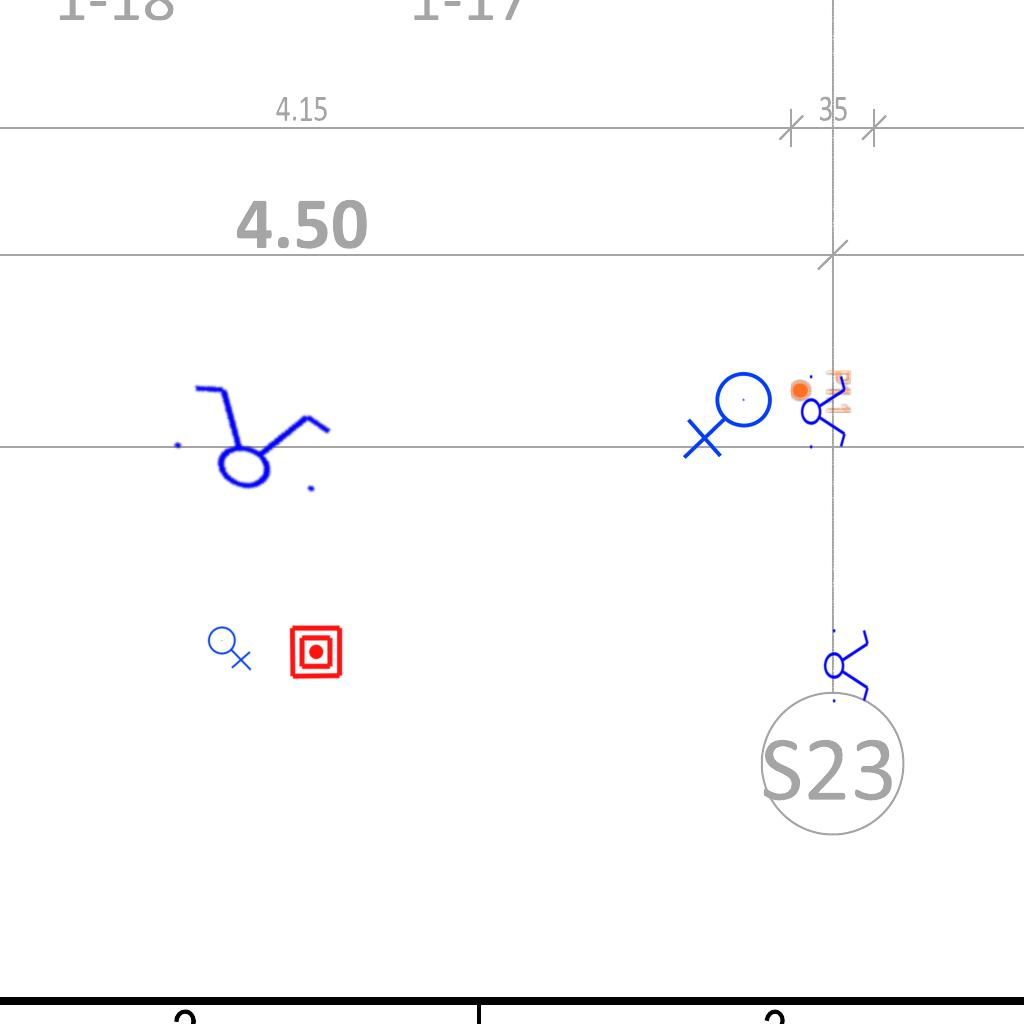Downlight_LED_Einbauleuchten_Flur: (789, 369, 853, 415)
Elektroanschluss_allgemein_230V_Geraeteanschlussdose_230V: (682, 370, 781, 464), (207, 622, 254, 671)
NAM-Nichtautomatischer_Melder: (288, 624, 344, 680)
Serienschalter: (156, 370, 346, 514), (823, 623, 871, 707), (800, 369, 848, 453)
